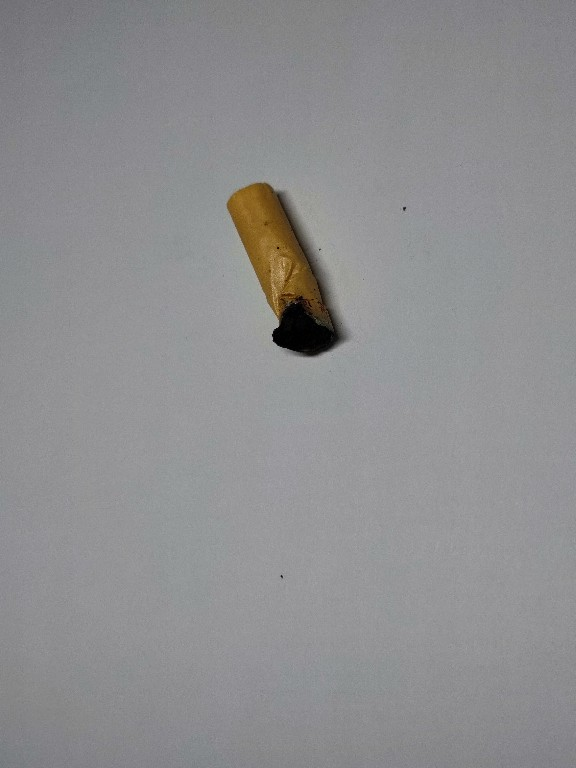cigarette: (220, 174, 349, 366)
